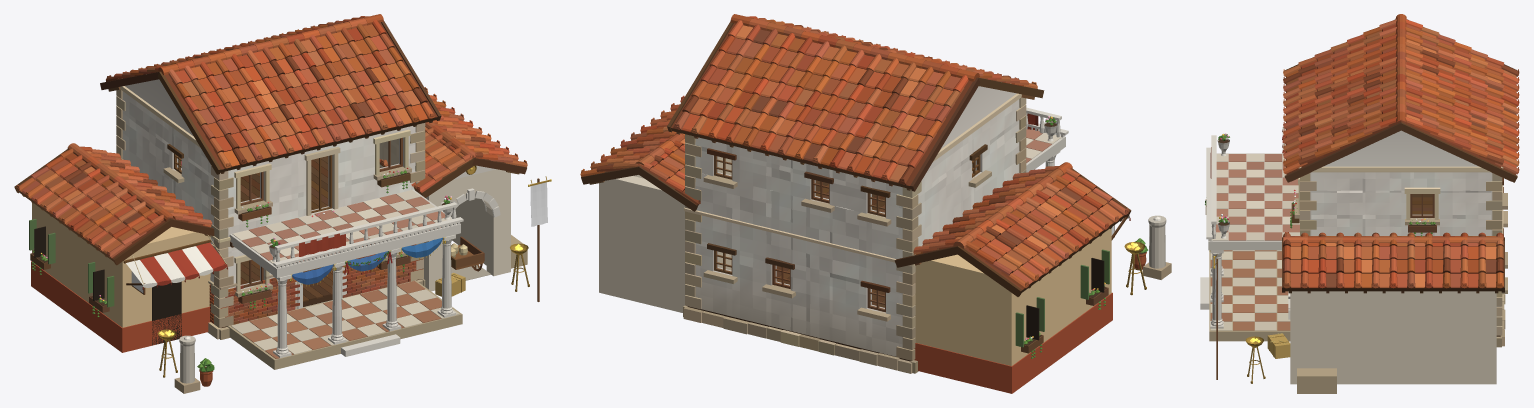
File: civ_center4.glb
The picture shows the model from 3 angles, left to right: view 1: azimuth 30°, elevation 25°; view 2: azimuth 150°, elevation 25°; view 3: azimuth 270°, elevation 25°; orthographic projection. The views are drawn at different scales.
Parts seen in each view (by area): view 1: House, Walls, Rooms; view 2: House, Walls, Rooms; view 3: House, Walls, Rooms.
Part boxes in pixels (x1,y1,x2,y2): House: [14, 14, 551, 393]; Walls: [122, 79, 419, 320]; Rooms: [181, 138, 398, 301]; House: [580, 14, 1171, 393]; Walls: [689, 86, 1019, 356]; Rooms: [718, 156, 972, 307]; House: [1200, 14, 1519, 393]; Walls: [1310, 130, 1500, 326]; Rooms: [1412, 194, 1432, 214].
Bounding box in the file's own units: 10.42 × 5.74 × 7.19.
10 materials, 10 textured.
